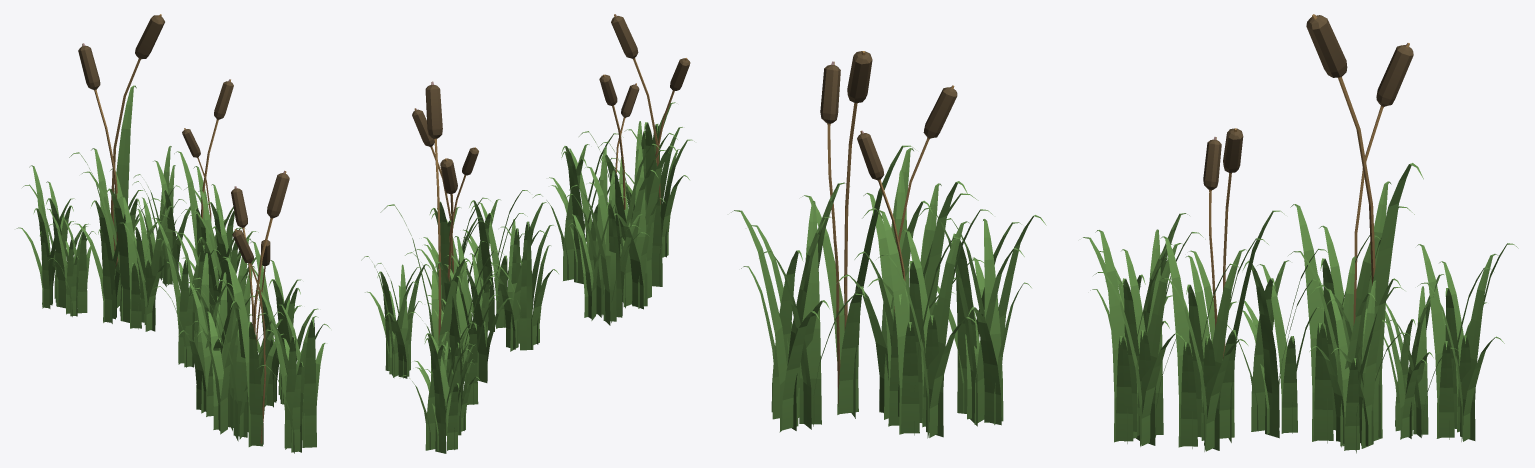
File: reeds.glb
3 views of the same model, side by side, from view 1: azimuth 30°, elevation 25°; view 2: azimuth 150°, elevation 25°; view 3: azimuth 270°, elevation 25° (orthographic). The views are drawn at different scales.
Visible parts, largest first — view 1: long_grass_merged.002; view 2: long_grass_merged.002; view 3: long_grass_merged.002.
Boxes of the visible parts, left/top/right/bottom form: long_grass_merged.002: left=16, top=14, right=330, bottom=453; long_grass_merged.002: left=361, top=14, right=694, bottom=453; long_grass_merged.002: left=731, top=14, right=1518, bottom=453.
Size of what is drawn, in the model's own units: 0.22 by 0.4003 by 0.6242.
Materials: 164 (164 with a texture image).
